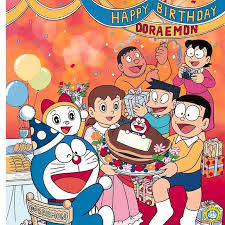doraemon: (30, 134, 115, 225)
